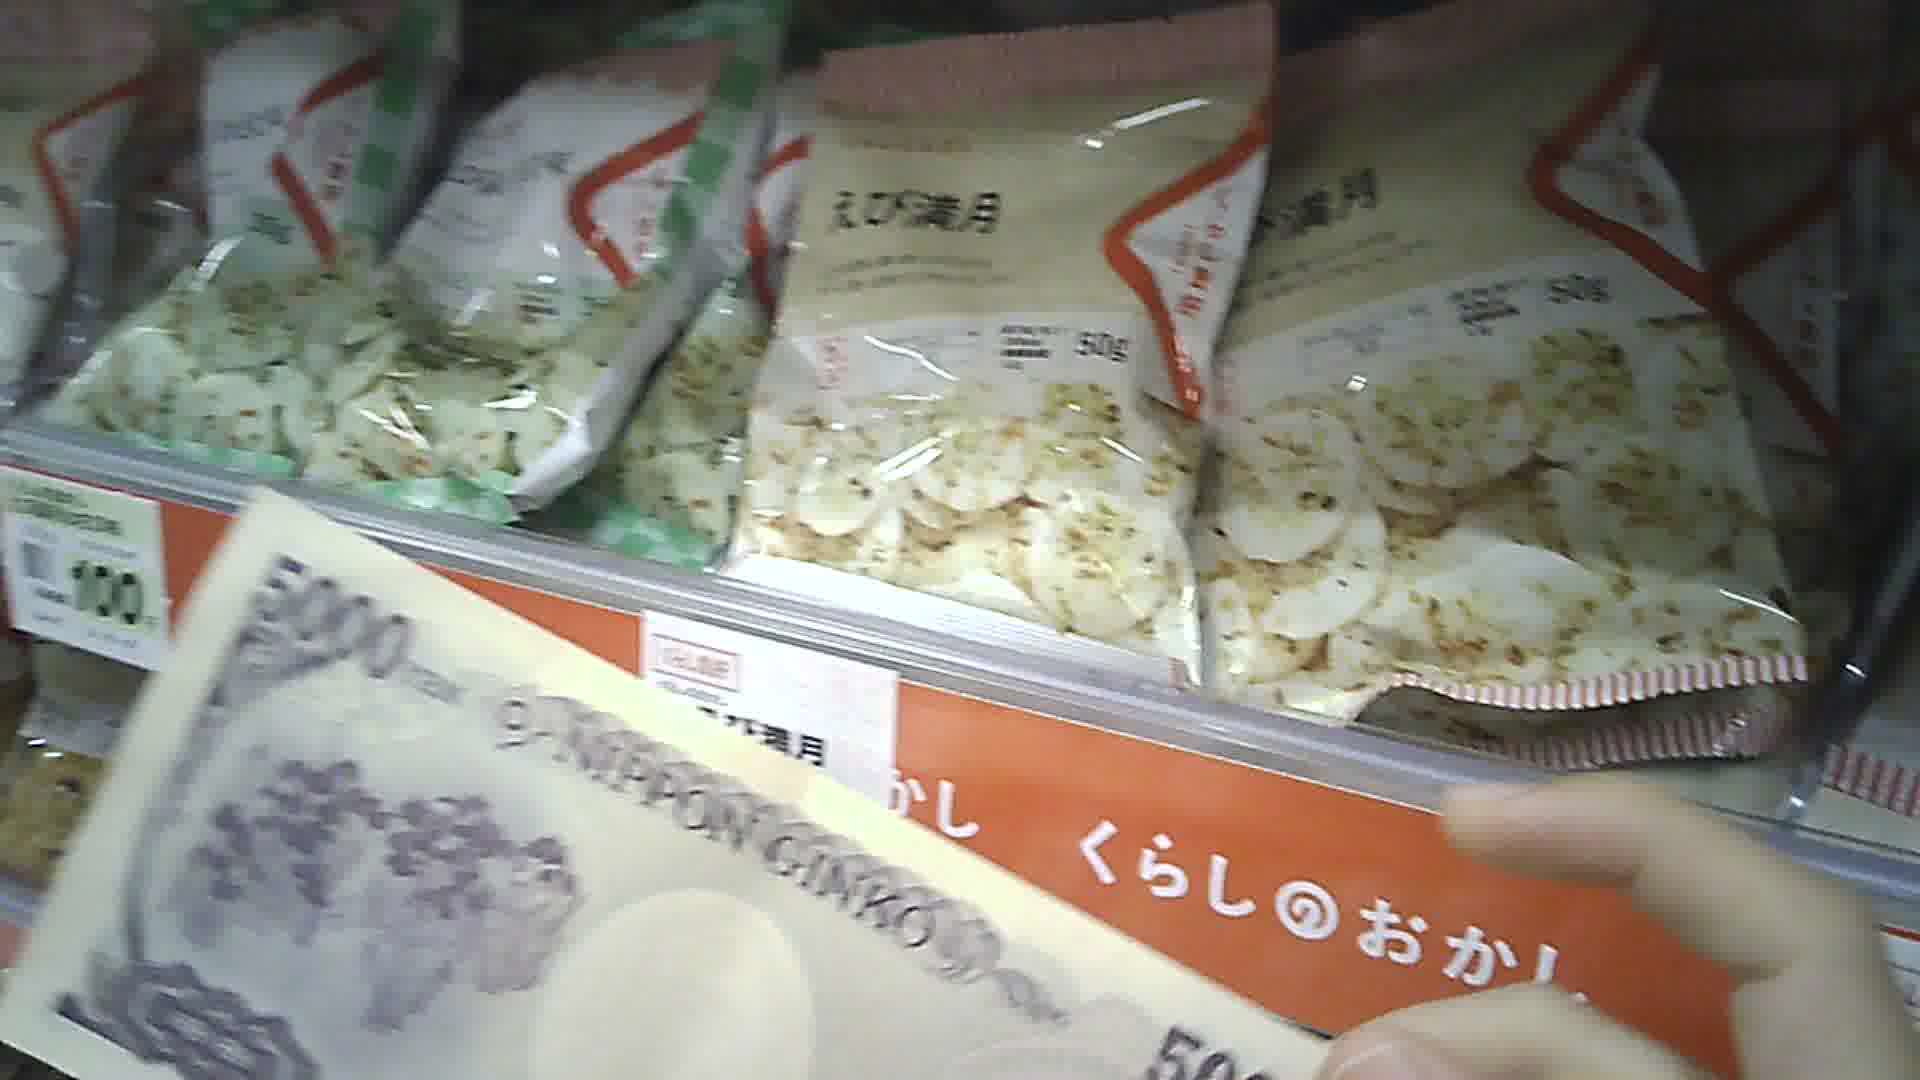5,000 Yen: (32, 485, 1317, 1079)
